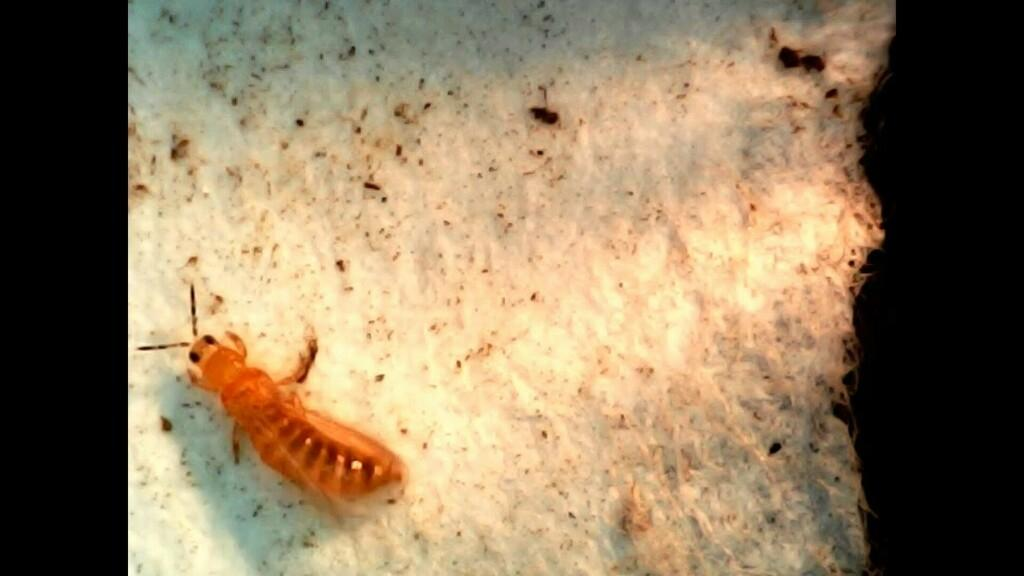tiny_pests: (119, 265, 445, 576)
